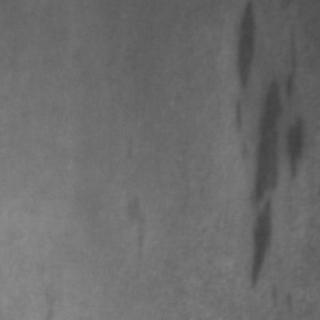inclusion: (236, 4, 308, 292), (224, 0, 256, 132), (116, 182, 152, 255)
